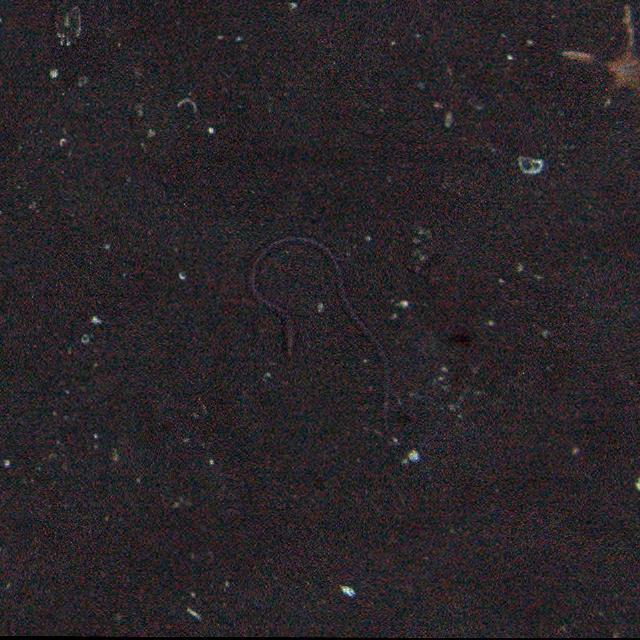eel: (250, 233, 400, 438)
